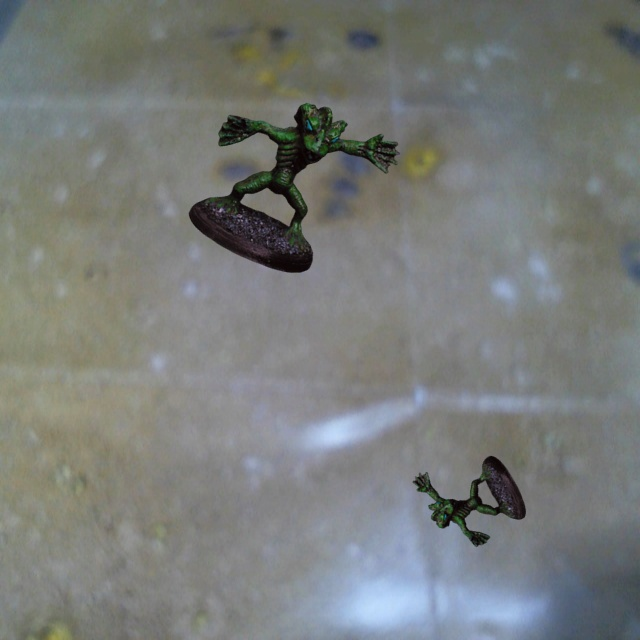pieza_juego: (189, 103, 399, 272), (413, 456, 525, 546)
